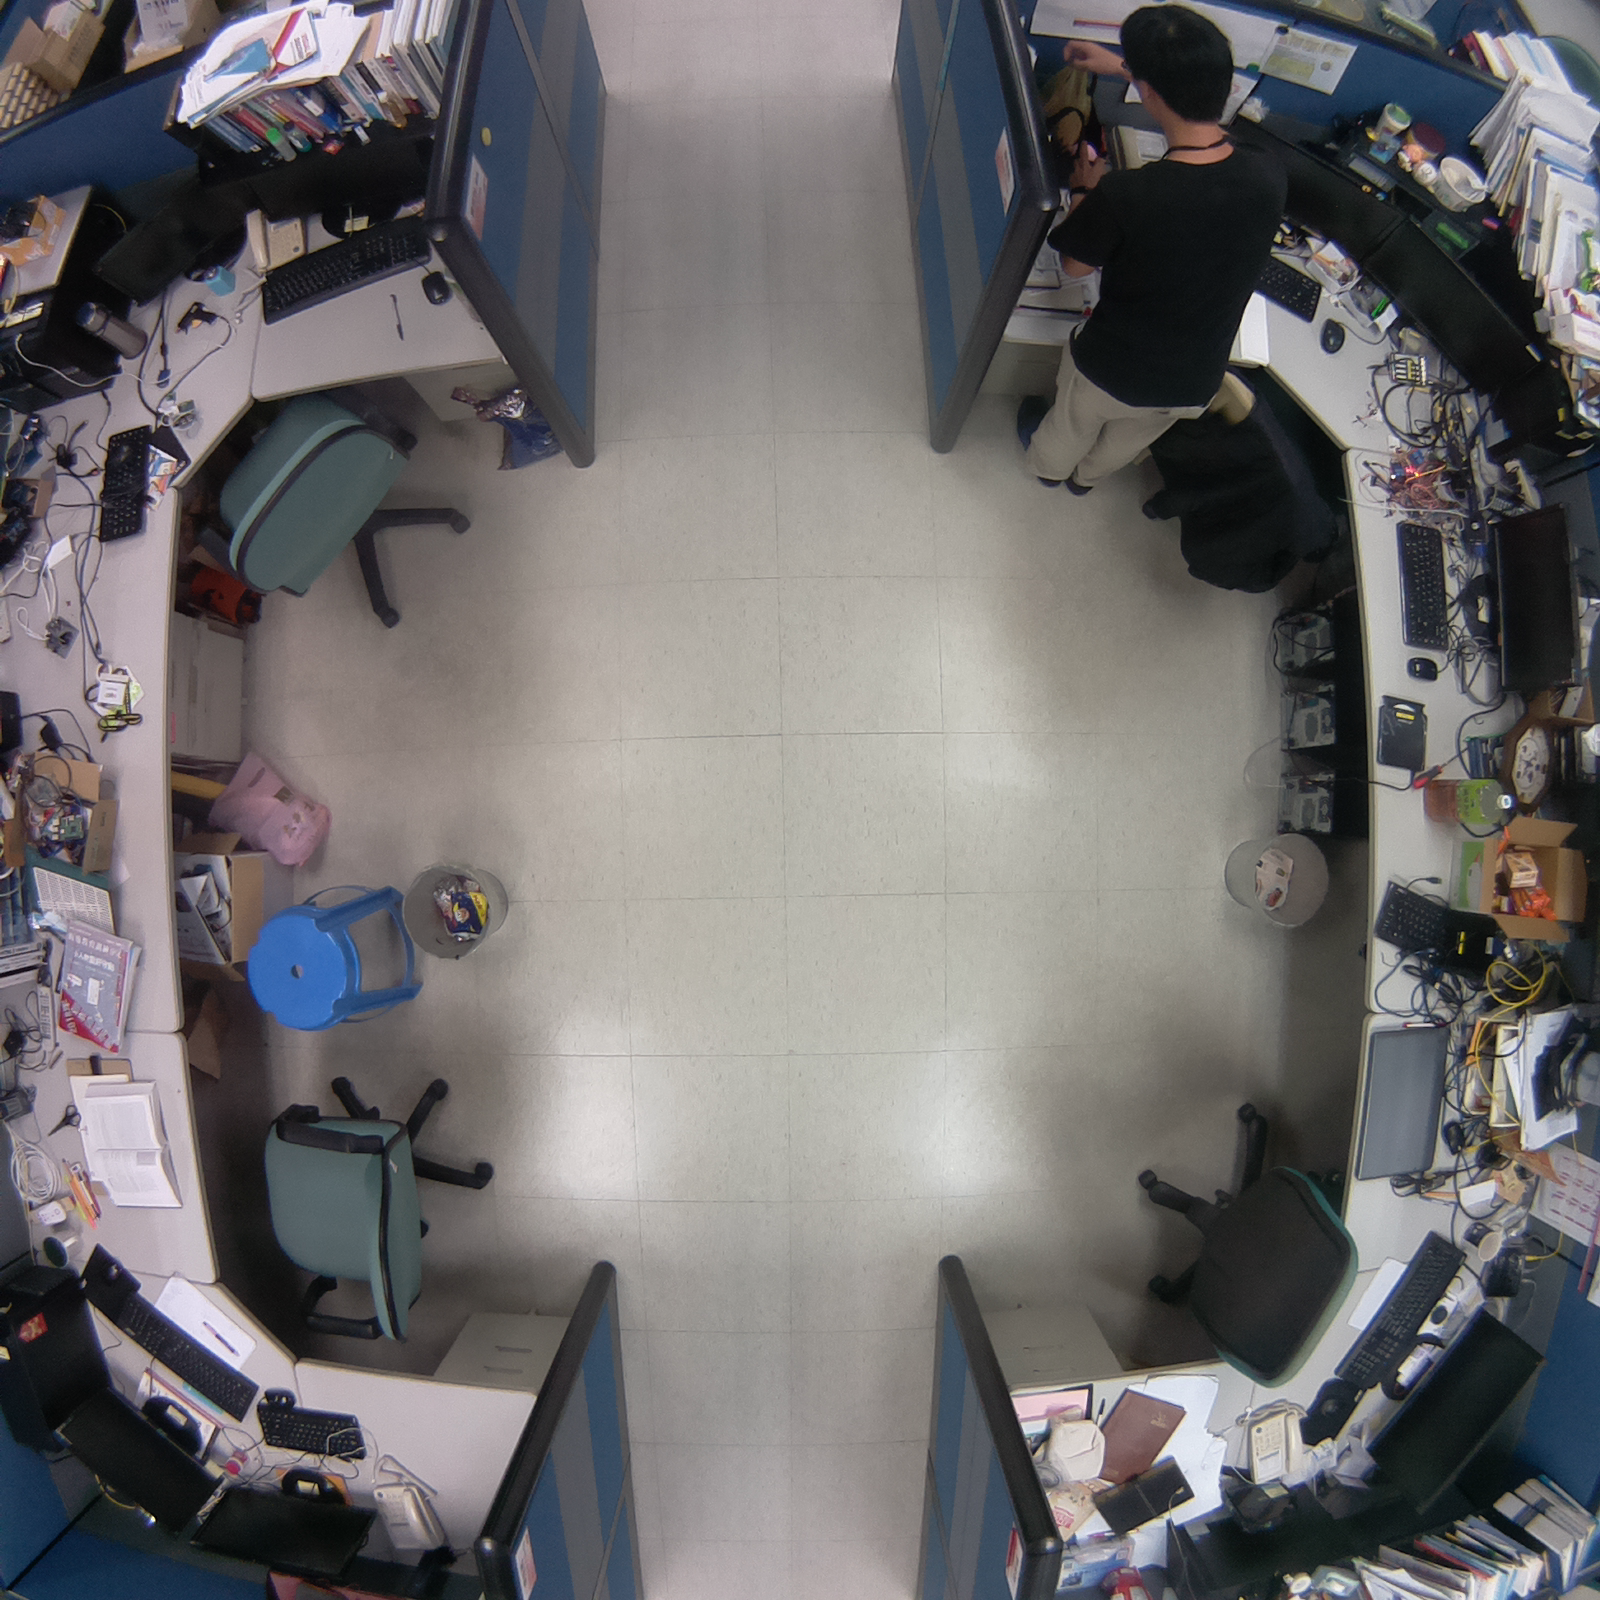chair: (232, 1055, 514, 1363), (1112, 1081, 1373, 1404), (188, 378, 488, 650)
head: (1108, 1, 1243, 131)
standing: (988, 3, 1290, 537)
